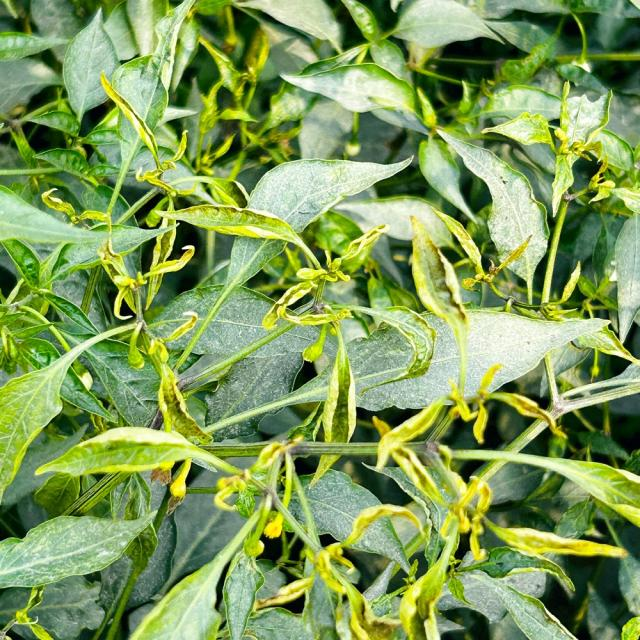Chilli_Leaf_Curl: (1, 1, 638, 638), (151, 152, 416, 369), (307, 304, 615, 414), (480, 78, 634, 218), (0, 508, 160, 590)
